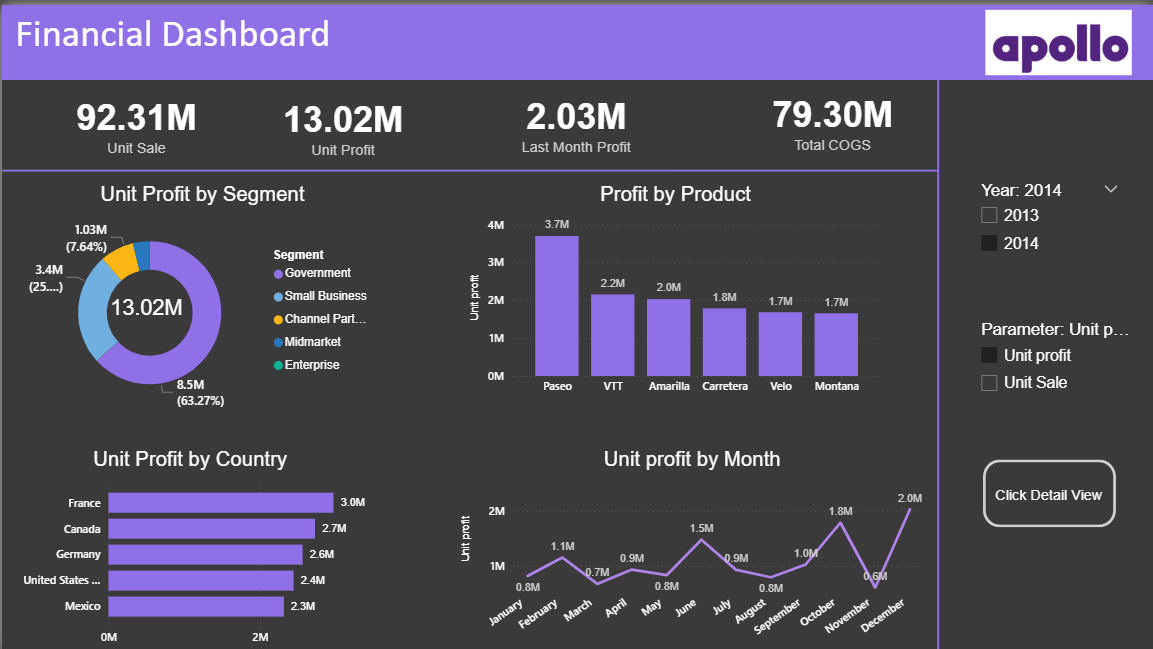

What the dashboard file says about the page in this screenshot:
{"tool":"powerbi","page":{"name":"DashBoard","canvas":[1280,720],"ordinal":0},"visuals":[{"type":"clusteredColumnChart","title":" Profit by Product","fields":{"Y":["financials.Unit Profit"],"Category":["financials.Product"]},"box":[515.2,197,467,245.2],"z":0},{"type":"card","fields":{"Values":["financials.Unit Sale"]},"box":[36.8,82.4,225,100],"z":1000},{"type":"card","fields":{"Values":["financials.Unit profit"]},"box":[261.8,77.9,233.8,110.3],"z":2000},{"type":"clusteredBarChart","title":"Unit Profit by Country","fields":{"Y":["financials.Unit Profit"],"Category":["financials.Country"]},"box":[0,491.3,418.4,228.9],"z":3000},{"type":"donutChart","title":"Unit Profit by Segment","fields":{"Y":["financials.Unit Profit"],"Category":["financials.Segment"]},"box":[21.5,196.9,402.3,264.5],"z":4000,"group":"g1"},{"type":"card","fields":{"Values":["Sum(financials.COGS)"]},"box":[816.2,82.4,211.8,92.6],"z":4000},{"type":"card","fields":{"Values":["financials.Unit Profit"]},"box":[108.4,306.2,103.1,60],"z":5000,"group":"g1"},{"type":"lineChart","fields":{"Y":["financials.Unit Profit"],"Category":["financials.Month Name"]},"box":[504.2,491.8,523.9,228.6],"z":5000},{"type":"card","fields":{"Values":["financials.Measure"]},"box":[526.5,77.9,222.1,104.4],"z":6000},{"type":"slicer","fields":{"Values":["financials.Year"]},"box":[1075.4,189.2,176.9,116.9],"z":7000},{"type":"textbox","box":[0,0,1280,83.1],"z":8000},{"type":"actionButton","title":"Click Detail View","box":[1089.2,504.6,147.7,75.4],"z":9000},{"type":"shape","box":[1030.7,75.8,20.4,644.4],"z":10000},{"type":"textbox","box":[1090.8,529.2,146.2,35.4],"z":11000},{"type":"shape","box":[0,172.9,1041.4,21.4],"z":12000},{"type":"image","box":[1070.7,0,208.5,82.9],"z":13000},{"type":"group","id":"g1","title":"Group 1","box":[21.5,196.9,402.3,264.5],"z":14000},{"type":"slicer","fields":{"Values":["Parameter.Parameter"]},"box":[1075,345,203.3,116.7],"z":15000}]}

Visuals, with their boxes in screenshot pixels (x1, y1, x2, y2), scaled from the page's 1280x720 canvas onto the 1153x649 screenshot:
" Profit by Product" clusteredColumnChart: Rect(464, 178, 885, 399)
card - financials.Unit Sale: Rect(33, 74, 236, 164)
card - financials.Unit profit: Rect(236, 70, 446, 170)
"Unit Profit by Country" clusteredBarChart: Rect(0, 443, 377, 648)
"Unit Profit by Segment" donutChart: Rect(19, 177, 382, 416)
card - Sum(financials.COGS): Rect(735, 74, 926, 158)
card - financials.Unit Profit: Rect(98, 276, 191, 330)
lineChart - financials.Unit Profit x financials.Month Name: Rect(454, 443, 926, 648)
card - financials.Measure: Rect(474, 70, 674, 164)
slicer - financials.Year: Rect(969, 171, 1128, 276)
textbox: Rect(0, 0, 1152, 75)
"Click Detail View" actionButton: Rect(981, 455, 1114, 523)
shape: Rect(928, 68, 947, 648)
textbox: Rect(983, 477, 1114, 509)
shape: Rect(0, 156, 938, 175)
image: Rect(964, 0, 1152, 75)
"Group 1" group: Rect(19, 177, 382, 416)
slicer - Parameter.Parameter: Rect(968, 311, 1151, 416)
